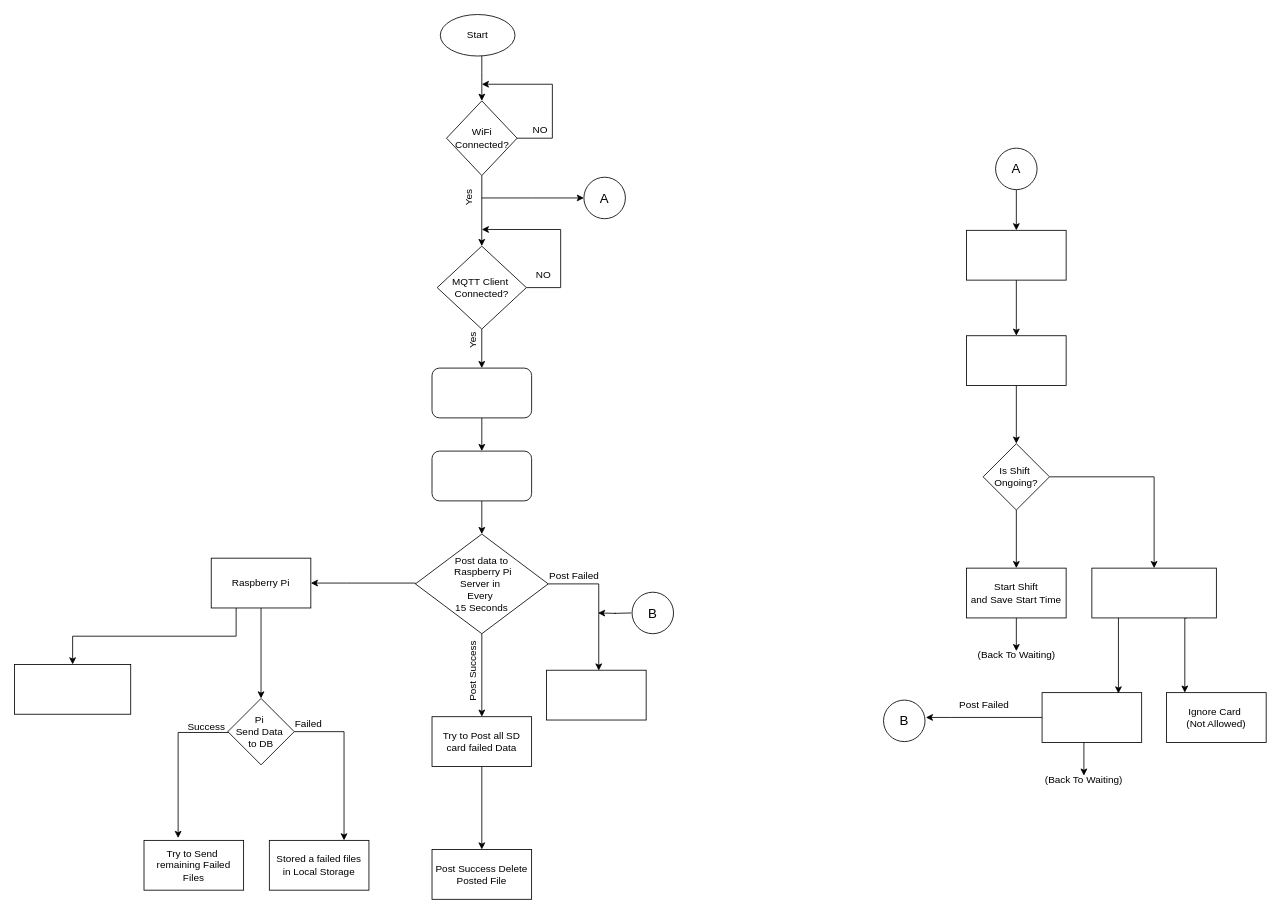
This 1281x914 diagram has some shape labels left out. Here are the shapes that lost their labels. From the top down, the box of each, then its label:
(966, 229, 1066, 280): NFC module waiting for card (Idle)
(966, 335, 1066, 386): Read Card ID
(431, 367, 532, 418): Receive data from STM 32
(431, 450, 532, 501): ESP 32 Publish data in every 15 seconds
(1091, 567, 1216, 618): Same Employee Card?
(14, 664, 131, 714): Receive New Employee Data and Publish to ESP 32
(546, 669, 646, 720): Storing fail data in SD card
(1041, 692, 1142, 742): End Shift and Save End Time And Post
